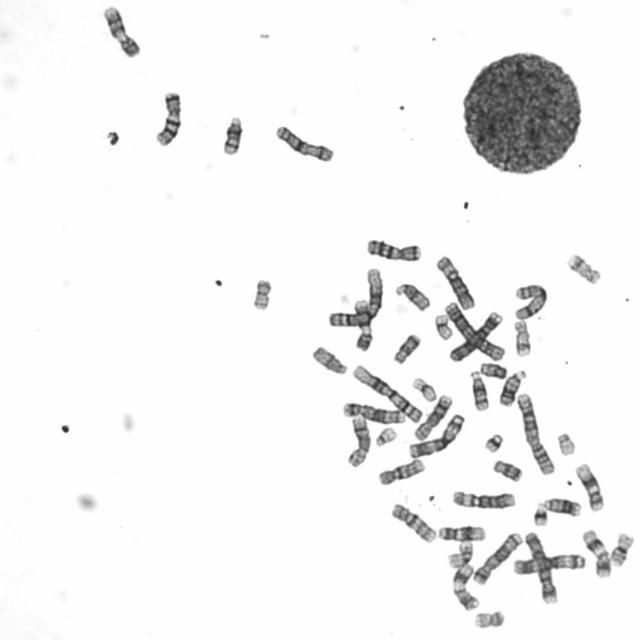A1: (353, 364, 422, 424), (327, 267, 387, 328)
A2: (444, 301, 506, 360), (516, 392, 556, 476)
A3: (408, 414, 466, 460), (514, 554, 586, 576)
B4: (448, 310, 502, 363), (524, 532, 561, 604)
B5: (473, 531, 524, 586), (342, 401, 406, 423)
C10: (390, 502, 438, 545), (378, 458, 428, 484)
C11: (581, 528, 611, 578), (452, 564, 482, 609)
C12: (574, 463, 604, 511), (438, 526, 488, 542)
C6: (434, 254, 477, 311), (450, 489, 518, 510)
C7: (154, 88, 182, 150), (366, 235, 422, 262)
C8: (413, 394, 453, 442), (344, 416, 372, 468)
C9: (102, 4, 142, 59), (352, 298, 376, 352)
D13: (499, 369, 529, 408), (541, 496, 581, 517)
D14: (220, 114, 247, 158), (469, 370, 490, 411)
D15: (311, 344, 348, 376), (395, 281, 432, 312)
E16: (609, 531, 634, 567), (446, 541, 476, 568)
E17: (563, 252, 602, 286), (510, 320, 532, 359)
E18: (393, 333, 423, 364), (492, 458, 524, 483)
F19: (411, 377, 438, 403), (434, 314, 454, 341)
F20: (251, 277, 272, 311), (475, 612, 505, 628)
G21: (482, 433, 504, 455), (532, 504, 550, 528)
G22: (556, 432, 576, 456), (375, 426, 398, 446)
X: (275, 126, 335, 163), (514, 281, 551, 321)
Y: (478, 362, 508, 381)
